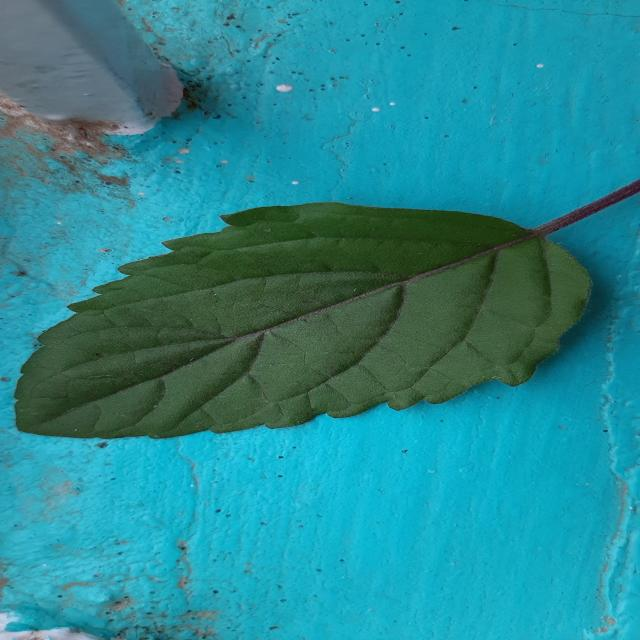tulsi: (14, 182, 639, 439)
